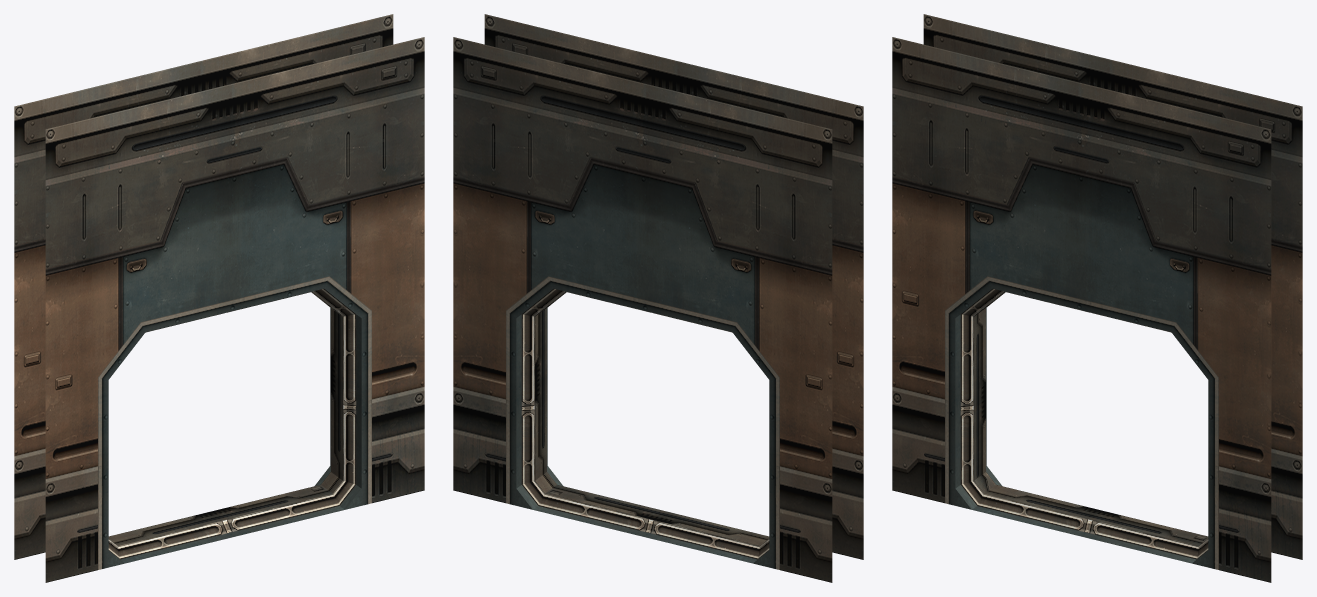
File: mprw_doorway.FBX
3 renders of one model, left to right at view 1: azimuth 30°, elevation 25°; view 2: azimuth 150°, elevation 25°; view 3: azimuth 330°, elevation 25°, orthographic.
Parts seen in each view (by area): view 1: mprw_doorway; view 2: mprw_doorway; view 3: mprw_doorway.
Part boxes in pixels (x1,y1,x2,y2): mprw_doorway: [14, 14, 424, 582]; mprw_doorway: [453, 14, 863, 582]; mprw_doorway: [892, 14, 1302, 582].
Size of the model in its own units: 700 by 800 by 100.
Materials: 1 (1 with a texture image).
